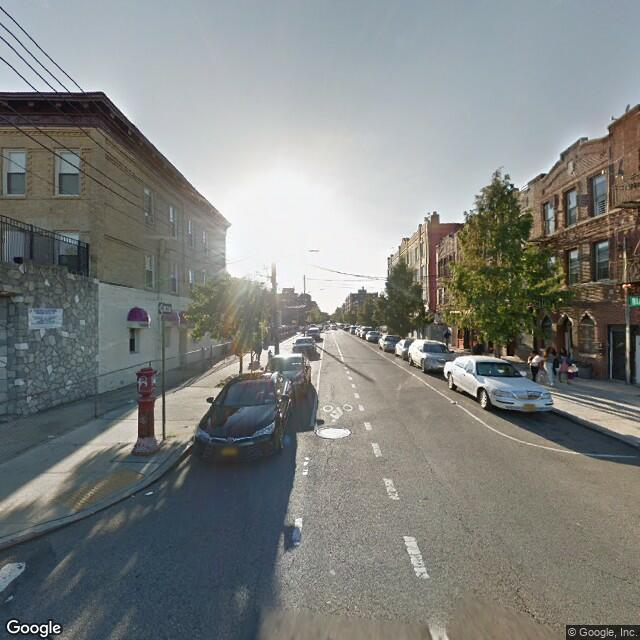litter: (145, 488, 153, 496), (450, 399, 458, 406), (45, 432, 54, 437), (125, 395, 134, 400), (130, 492, 137, 496)
